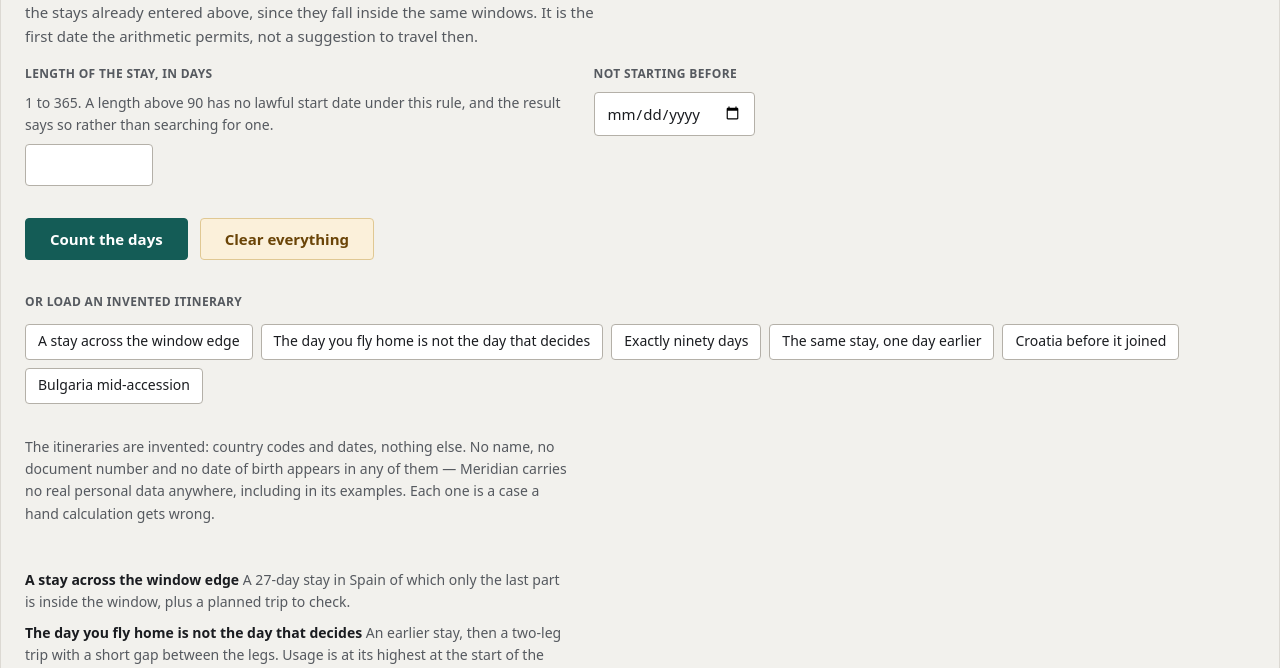
Test: the count against the 90 days › says a count inside the allowance is not permission to enter
The image size is (1280, 668).
(page scrolled)
Click the button "Exactly ninety days" at (686, 342), box [611,324,761,360]
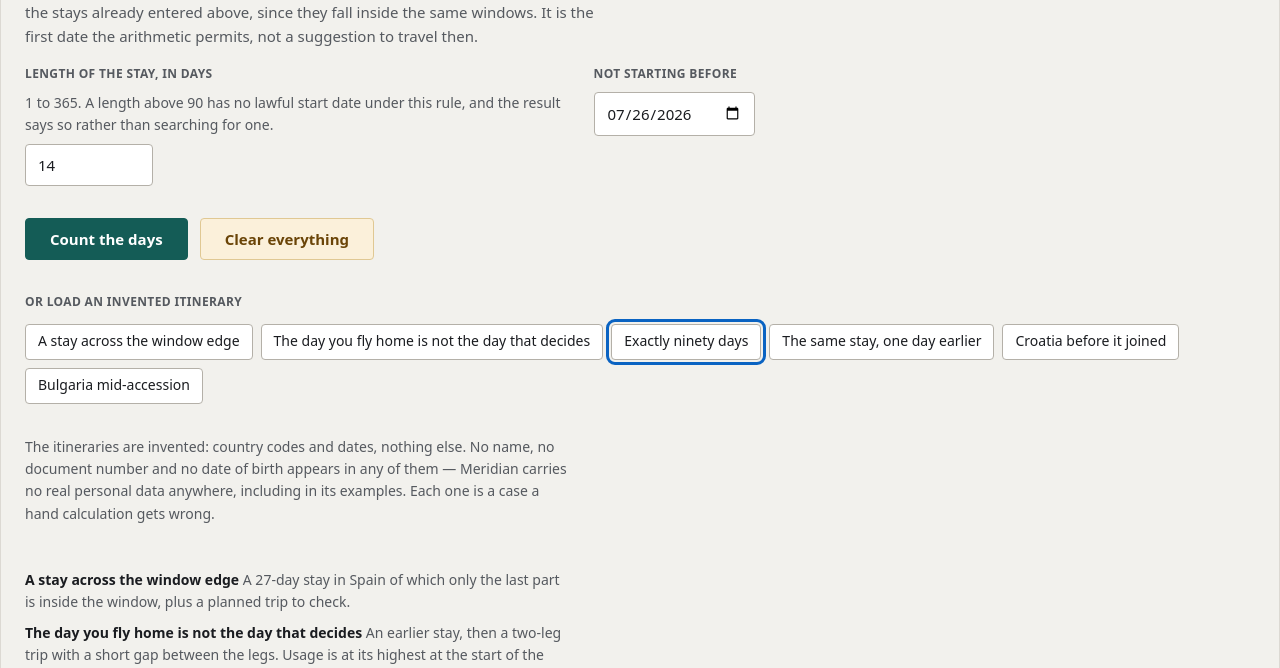
Click the button "Count the days" at (106, 239), box [25,218,188,260]
(page scrolled)
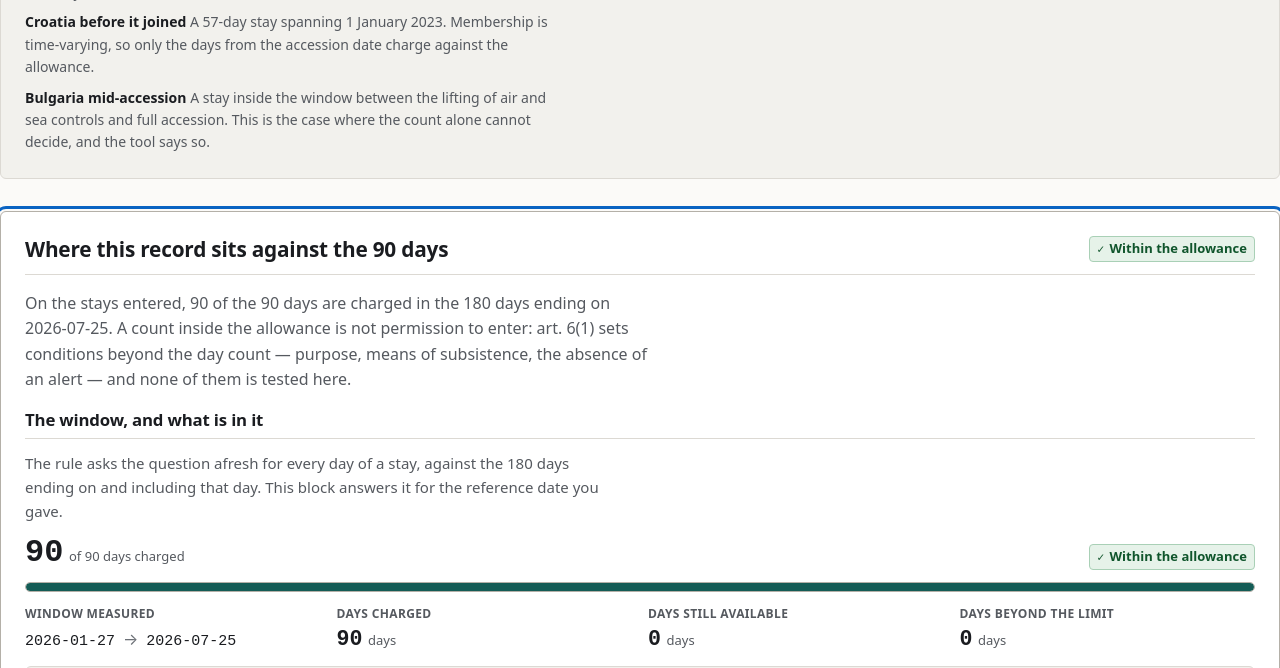
Now the text "art. 6(1) sets conditions beyond the day count" is shown, box [25,292,647,390]
